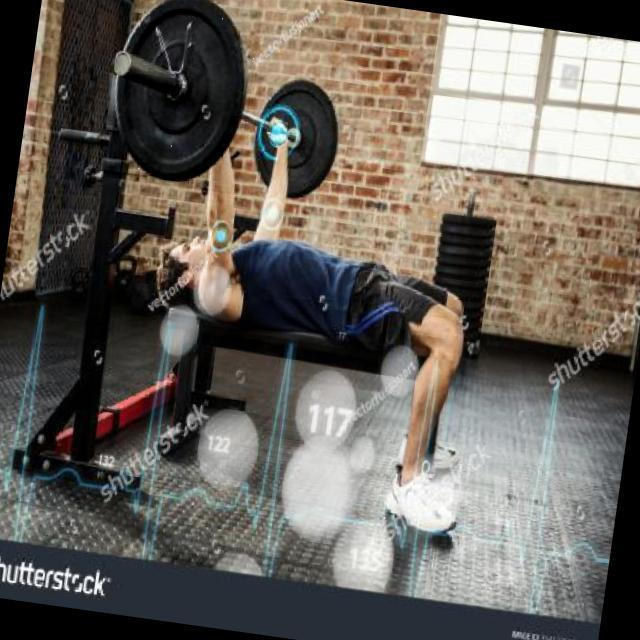barbell: (96, 1, 265, 197)
